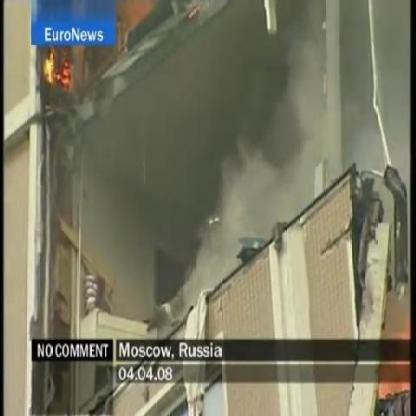fire: (41, 45, 73, 91)
